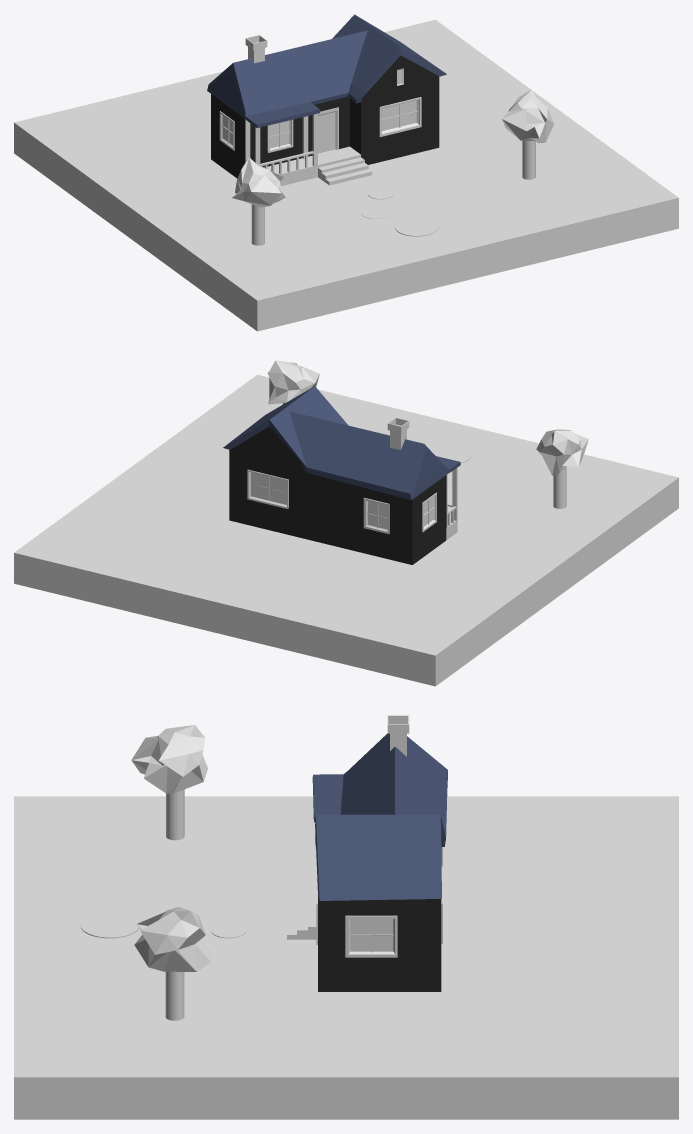
The model's file is vrhome1.fbx.
3 views of the same model, one above another, from view 1: azimuth 30°, elevation 25°; view 2: azimuth 150°, elevation 25°; view 3: azimuth 270°, elevation 25° (orthographic). The views are drawn at different scales.
Visible parts, largest first — view 1: Cube, Roof, greywall, Cube.002; view 2: Cube, greywall, Roof; view 3: Cube, Roof, greywall.
Boxes of the visible parts, box(x1,y1,x2,y2) form: Cube: box(14, 19, 678, 331); Roof: box(207, 14, 446, 127); greywall: box(211, 55, 439, 178); Cube.002: box(245, 113, 317, 185); Cube: box(14, 360, 678, 686); greywall: box(229, 427, 446, 564); Roof: box(223, 386, 460, 499); Cube: box(14, 715, 678, 1119); Roof: box(312, 733, 447, 900); greywall: box(318, 896, 441, 991).
Bounding box in the file's own units: 400 × 141 × 400.
